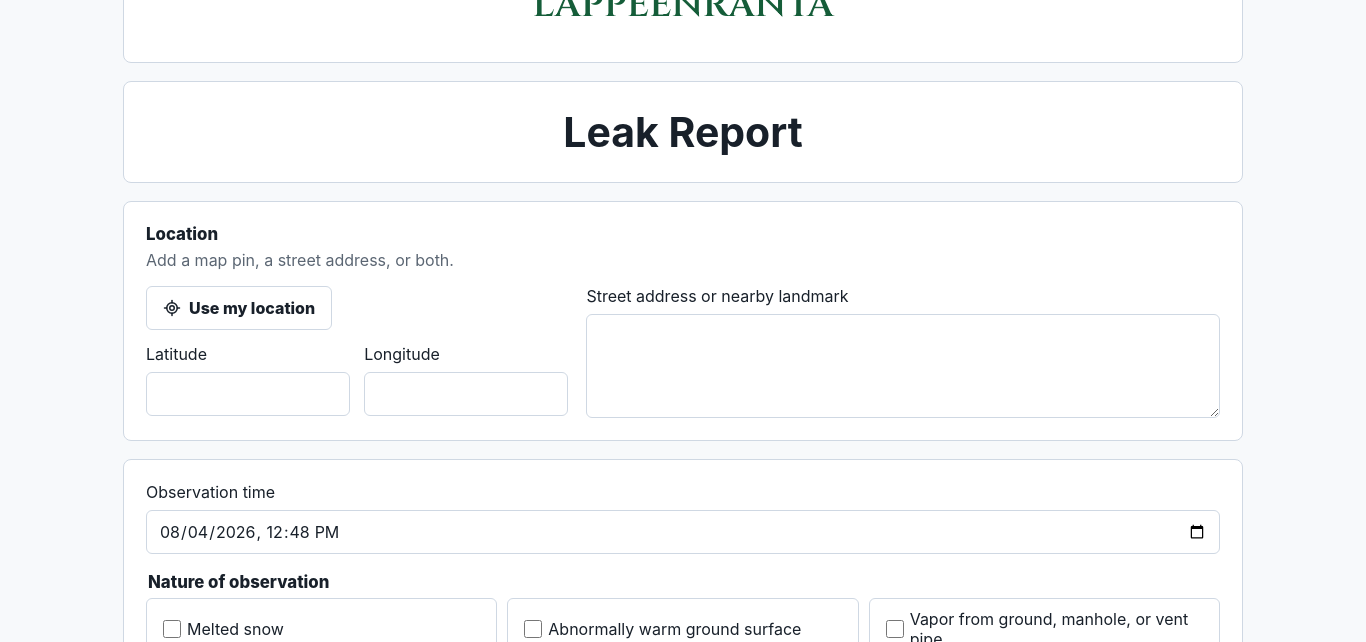
Test: ReportForm › submits a complete English report with a street address
The image size is (1366, 642).
Type "Valtakatu 1" into the text box labelled "Street address or nearby landmark" at (903, 366), box [586,314,1220,418]
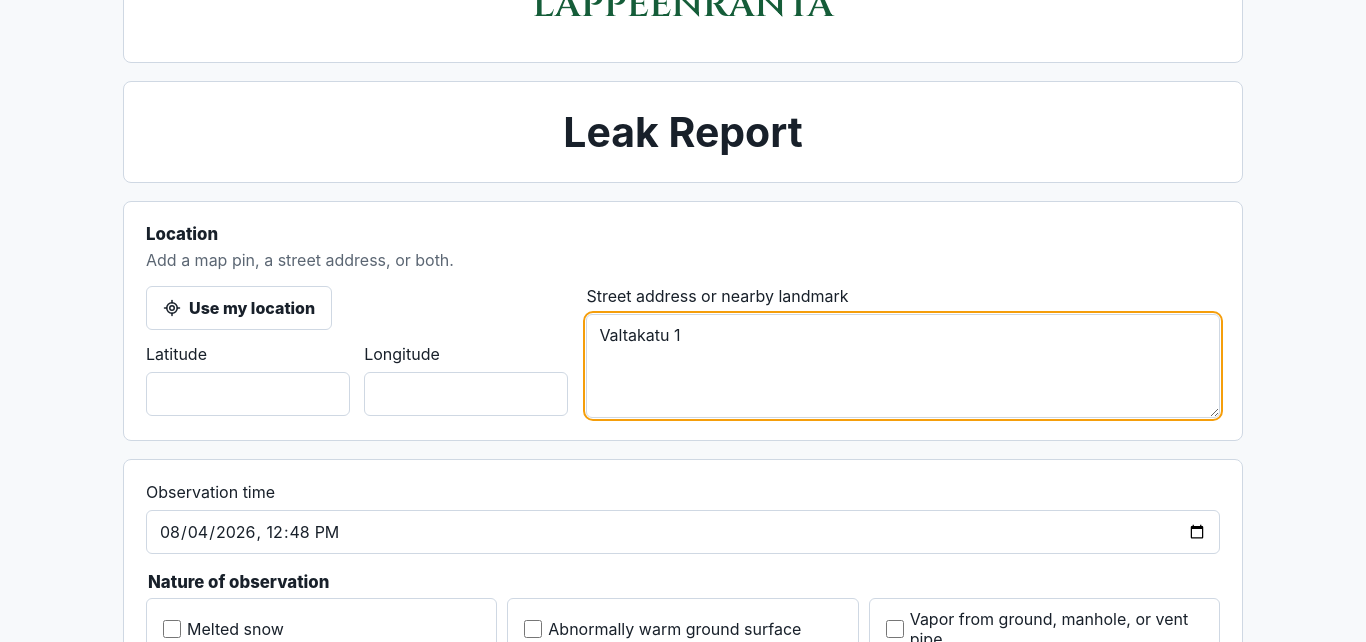
Click the checkbox labelled "Vapor from ground, manhole, or vent pipe" at (895, 629), box [886,620,904,638]
(page scrolled)
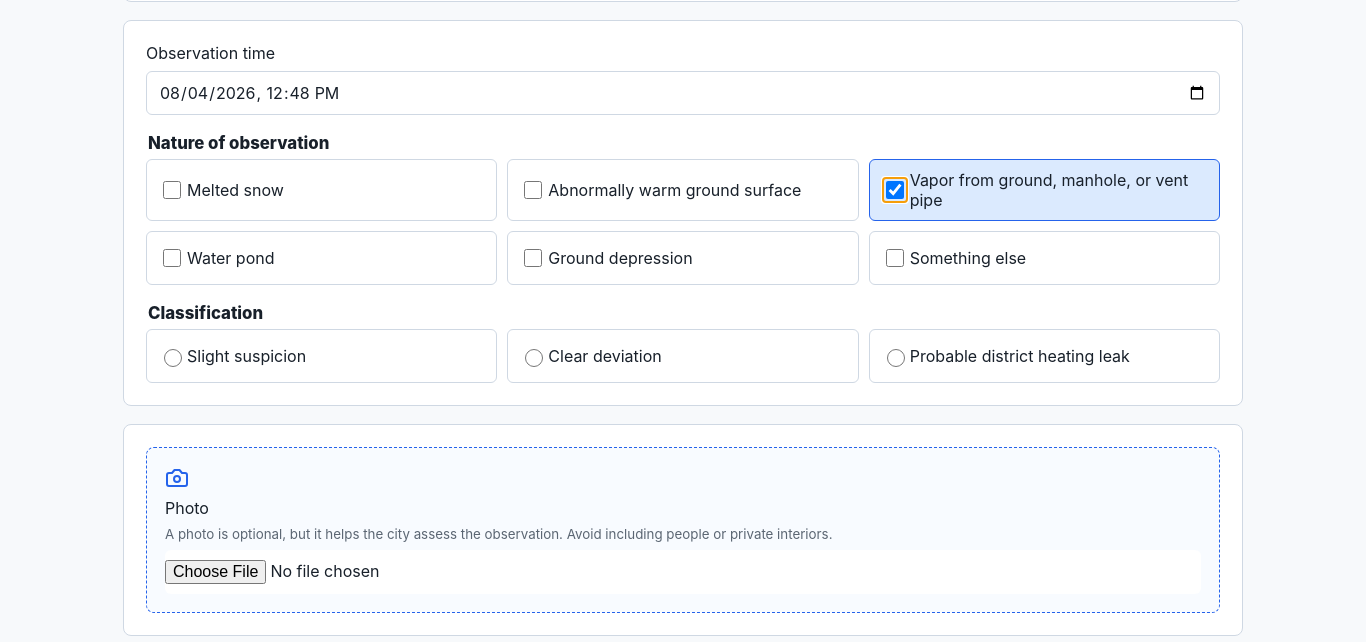
Click the checkbox labelled "Water pond" at (172, 258), box [163,249,181,267]
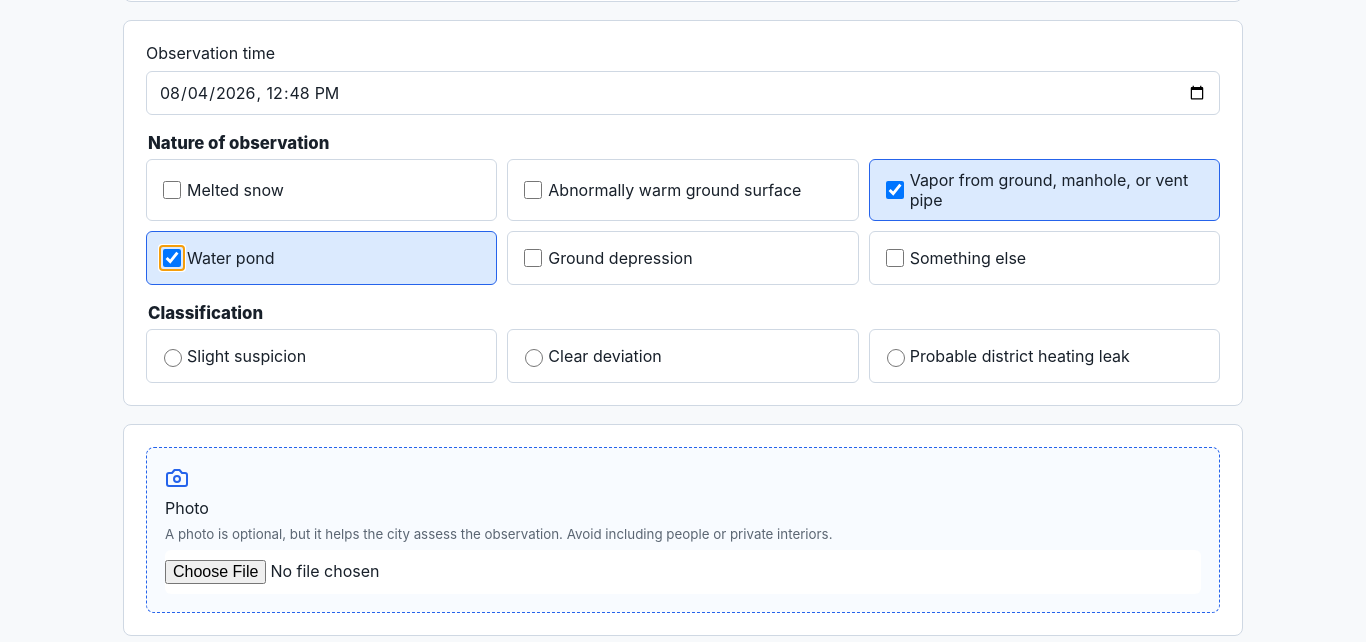
Click the radio button labelled "Clear deviation" at (534, 358), box [525,349,543,367]
(page scrolled)
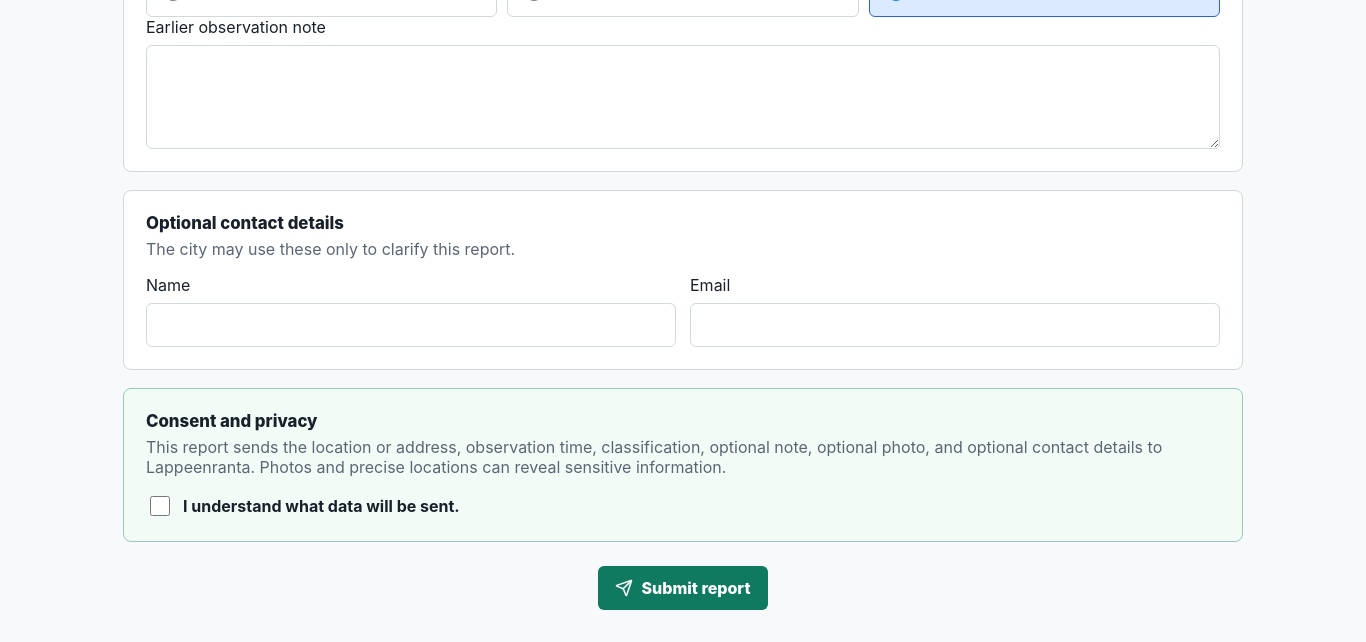
Click the checkbox labelled "I understand what data will be sent." at (160, 506), box [150,496,170,516]
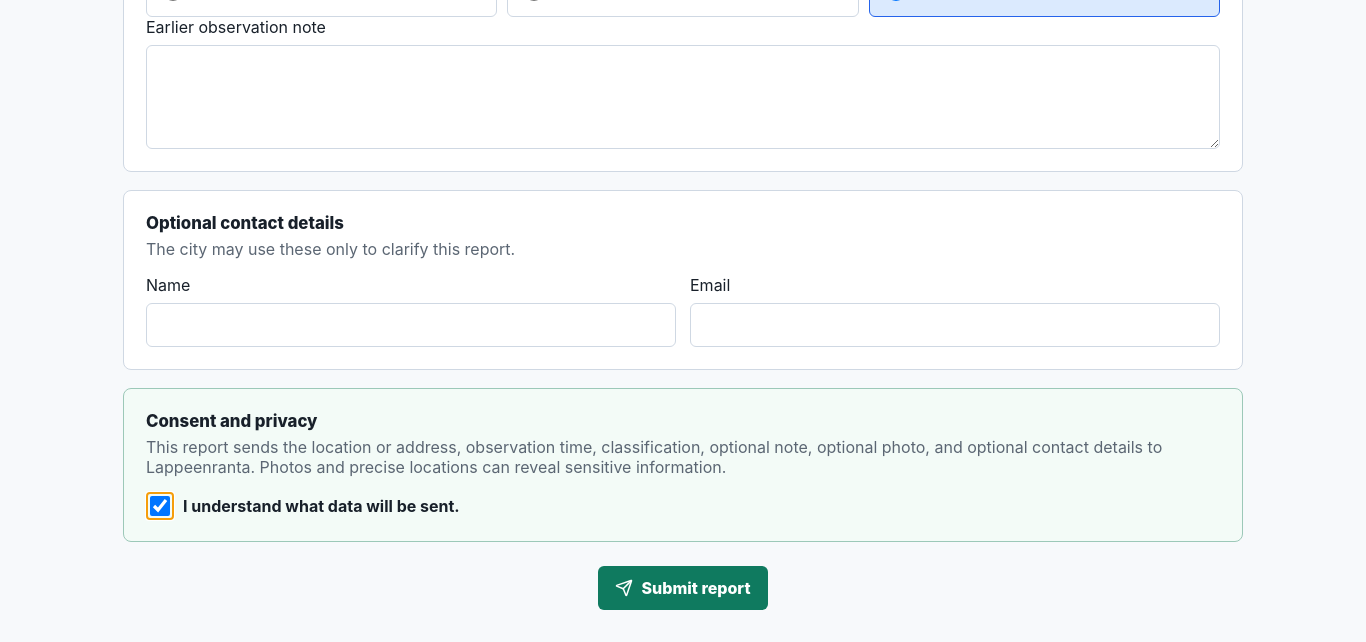
Click the button "Submit report" at (683, 588), box [598,566,768,610]
(page scrolled)
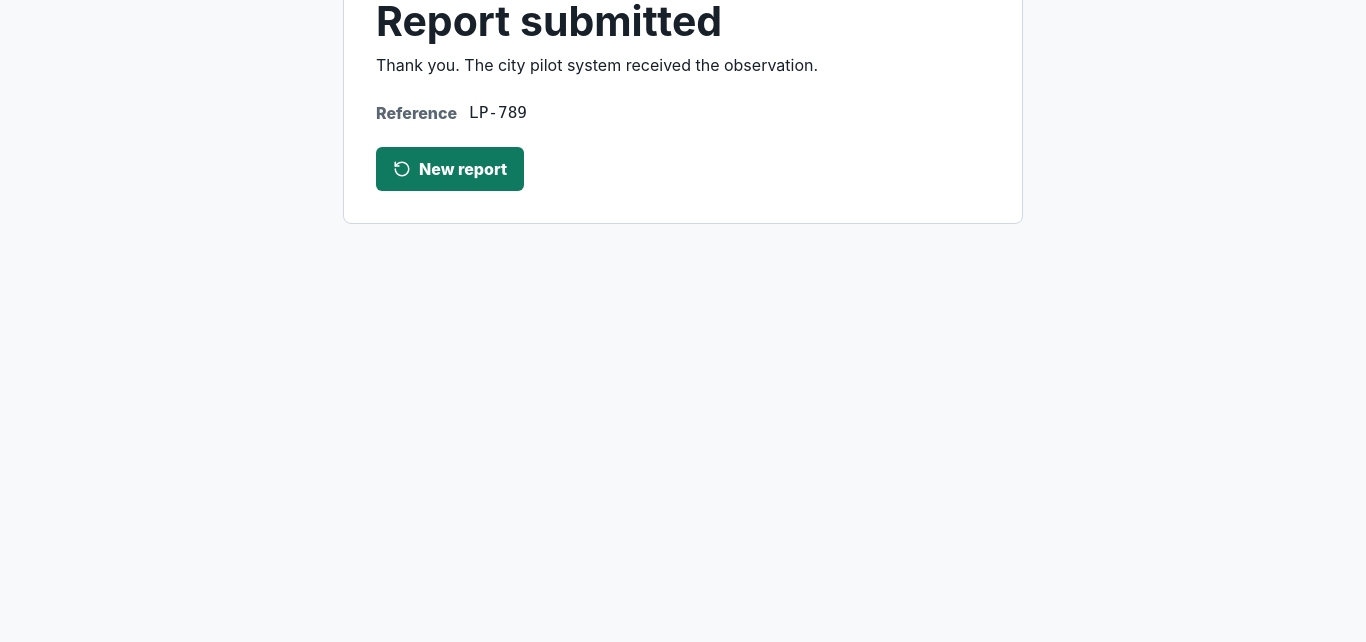
Now the text "LP-789" is shown, box [469,103,527,123]
